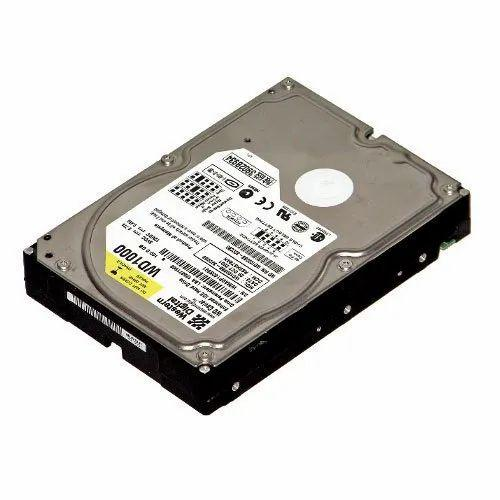internal HDD: (24, 78, 470, 415)
